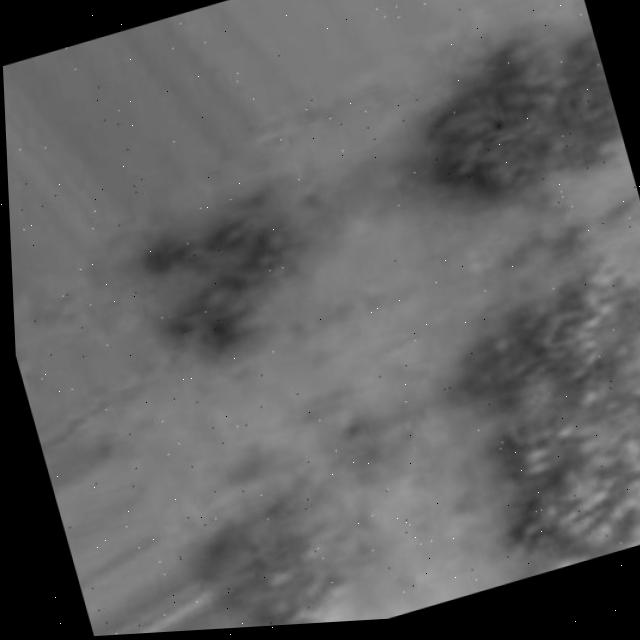Shingles: (328, 0, 640, 599), (131, 164, 353, 370), (187, 470, 365, 630)
